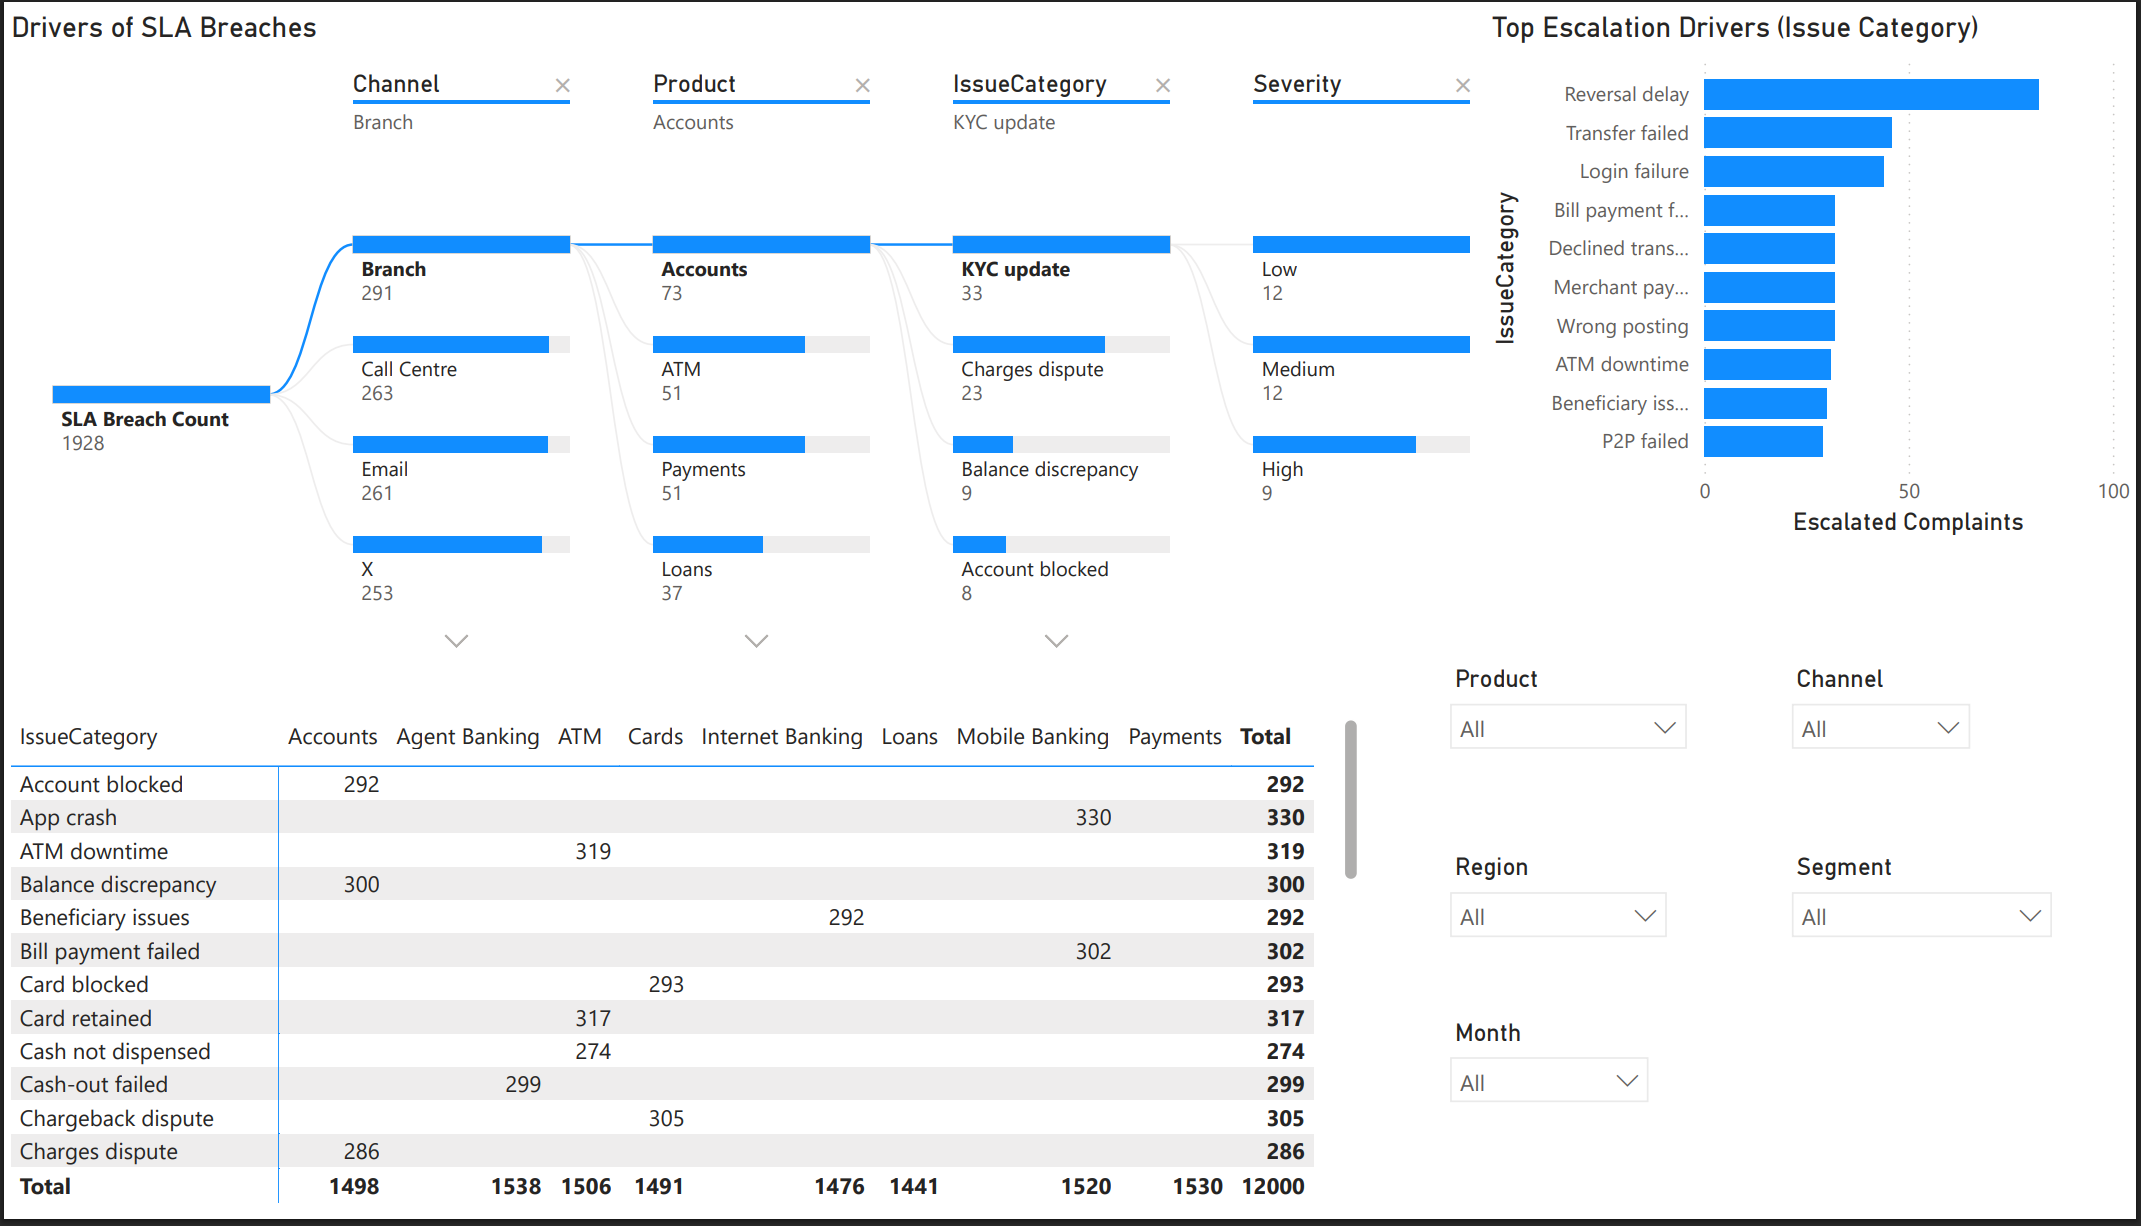

Layout of this report page (visuals, bound fields, positions):
{"tool":"powerbi","page":{"name":"Issue Deep Dive (Root Cause)","canvas":[1280,720],"ordinal":2},"visuals":[{"type":"decompositionTreeVisual","title":"Drivers of SLA Breaches","fields":{"Analyze":["Fact_Complaints.SLA Breach Count"],"ExplainBy":["Fact_Complaints.Channel","Fact_Complaints.Product","Fact_Complaints.IssueCategory","Fact_Complaints.Severity"]},"box":[0,0,887.5,420],"z":0},{"type":"pivotTable","fields":{"Rows":["Fact_Complaints.IssueCategory"],"Columns":["Fact_Complaints.Product"],"Values":["Fact_Complaints.Total Complaints"]},"box":[0,420,817.5,300],"z":1},{"type":"clusteredBarChart","title":"Top Escalation Drivers (Issue Category)","fields":{"Category":["Fact_Complaints.IssueCategory"],"Y":["Fact_Complaints.Escalated Complaints"]},"box":[887.5,0,392.5,320],"z":2},{"type":"slicer","fields":{"Values":["Fact_Complaints.Product"]},"box":[857.5,388.3,161.7,101.7],"z":3},{"type":"slicer","fields":{"Values":["Fact_Complaints.Channel"]},"box":[1062.5,388.3,126.7,69.2],"z":4},{"type":"slicer","fields":{"Values":["Fact_Complaints.Region"]},"box":[857.5,500.8,150,85.8],"z":5},{"type":"slicer","fields":{"Values":["Fact_Complaints.CustomerSegment"]},"box":[1062.5,500.8,175.8,112.5],"z":6},{"type":"slicer","fields":{"Values":["Dim_Date.Month"]},"box":[857.5,600,139.2,78.3],"z":7}]}

Visuals, with their boxes in screenshot pixels (x1, y1, x2, y2), scaled from the page's 1280x720 canvas onto the 2141x1226 screenshot:
"Drivers of SLA Breaches" decompositionTreeVisual: box(0, 0, 1484, 715)
pivotTable - Fact_Complaints.IssueCategory x Fact_Complaints.Product: box(0, 715, 1367, 1225)
"Top Escalation Drivers (Issue Category)" clusteredBarChart: box(1484, 0, 2140, 545)
slicer - Fact_Complaints.Product: box(1434, 661, 1705, 834)
slicer - Fact_Complaints.Channel: box(1777, 661, 1989, 779)
slicer - Fact_Complaints.Region: box(1434, 853, 1685, 999)
slicer - Fact_Complaints.CustomerSegment: box(1777, 853, 2071, 1044)
slicer - Dim_Date.Month: box(1434, 1022, 1667, 1155)
